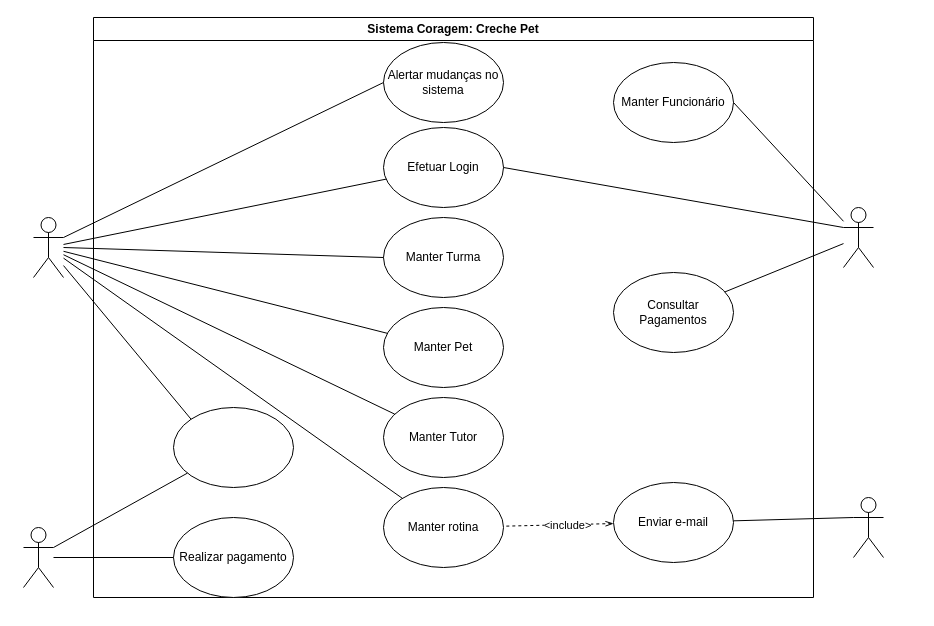
The diagram is 934 pixels wide and 626 high, and some of its shapes have lost their labels. The shapes that lost their labels are listed below. From the top down, each one's centre as x and y in pixels, then its label:
At [48,247]: "Funcionário".
At [858,237]: "Gerente".
At [233,447]: "Manter Pacote".
At [868,527]: "Servidor de e-mail".
At [38,557]: "Tutor".
